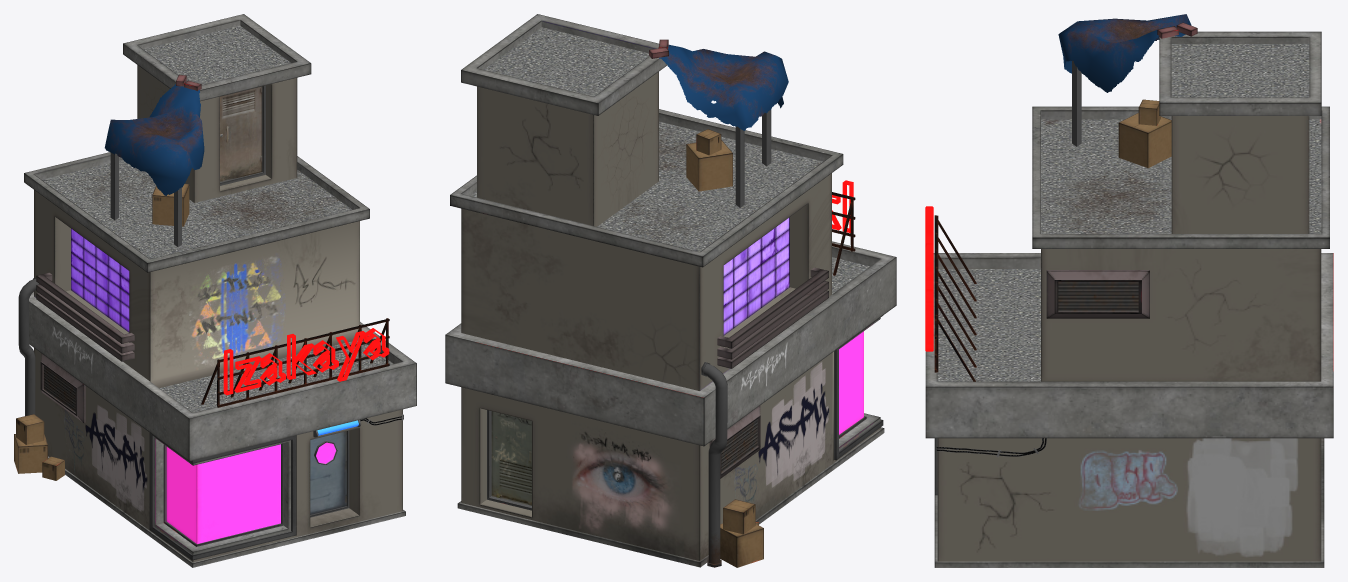
Rendered from minato-benmaher-exterior.glb.
The picture shows the model from 3 angles, left to right: view 1: azimuth 30°, elevation 25°; view 2: azimuth 150°, elevation 25°; view 3: azimuth 270°, elevation 25°; orthographic projection. The views are drawn at different scales.
Visible parts, largest first — view 1: BenMaher izakaya, Cloth__0; view 2: BenMaher izakaya, Cloth__0; view 3: BenMaher izakaya, Cloth__0, Wires__0.
Part boxes in pixels (<box>): BenMaher izakaya: <box>14,14,416,567</box>; Cloth__0: <box>104,84,204,195</box>; BenMaher izakaya: <box>445,14,896,567</box>; Cloth__0: <box>659,44,788,130</box>; BenMaher izakaya: <box>925,22,1333,567</box>; Cloth__0: <box>1058,14,1191,92</box>; Wires__0: <box>936,438,1046,457</box>.
Bounding box in the file's own units: 6.18 × 9.05 × 7.11.
Materials: 3 (3 with a texture image).
